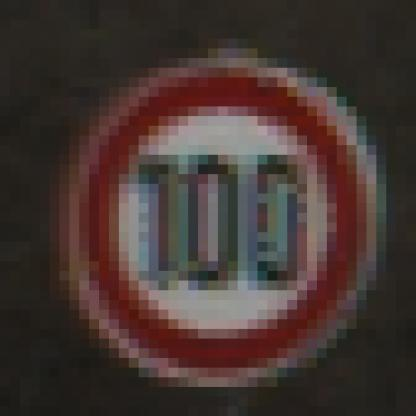Speed Limit 100: (86, 72, 371, 372)
